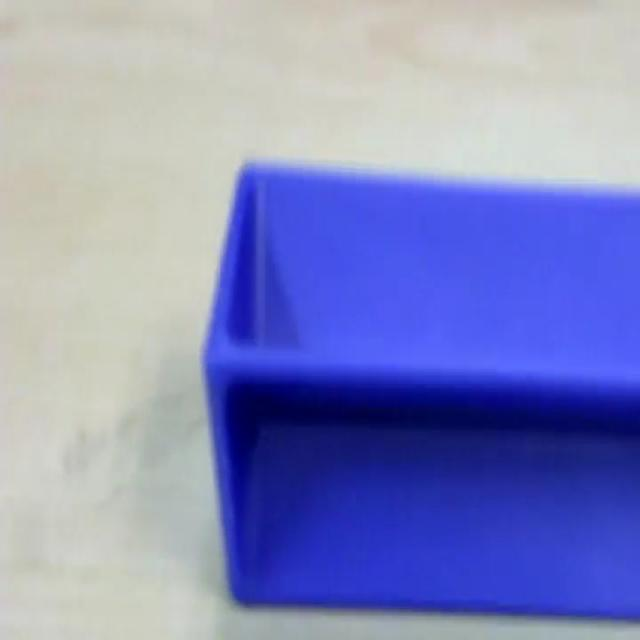blue_block: (201, 156, 638, 619)
